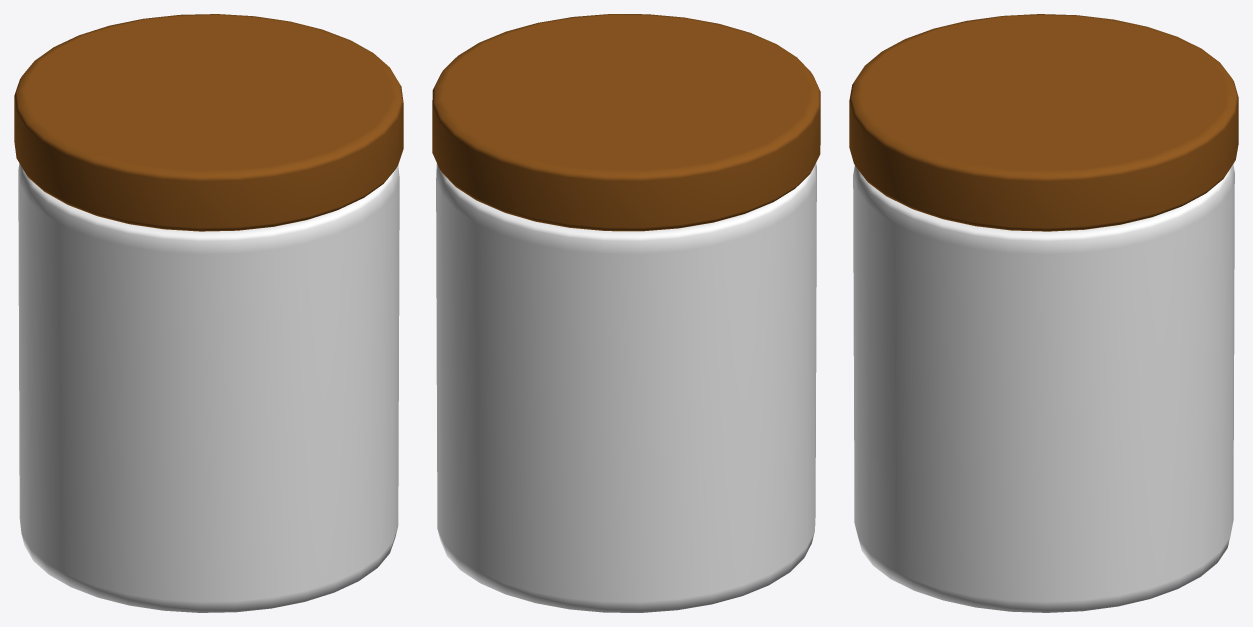
Rendered from SM_jar_empty.glb.
The picture shows the model from 3 angles, left to right: view 1: azimuth 30°, elevation 25°; view 2: azimuth 150°, elevation 25°; view 3: azimuth 270°, elevation 25°; orthographic projection.
Visible parts, largest first — view 1: SM_jar_empty; view 2: SM_jar_empty; view 3: SM_jar_empty.
Boxes of the visible parts, bbox=[...] form: SM_jar_empty: bbox=[14, 14, 403, 612]; SM_jar_empty: bbox=[432, 14, 820, 612]; SM_jar_empty: bbox=[849, 14, 1238, 612].
Bounding box in the file's own units: 0.1689 × 0.2127 × 0.1689.
Materials: 2 (2 with a texture image).
